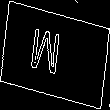M_S: (38, 26, 72, 84)
